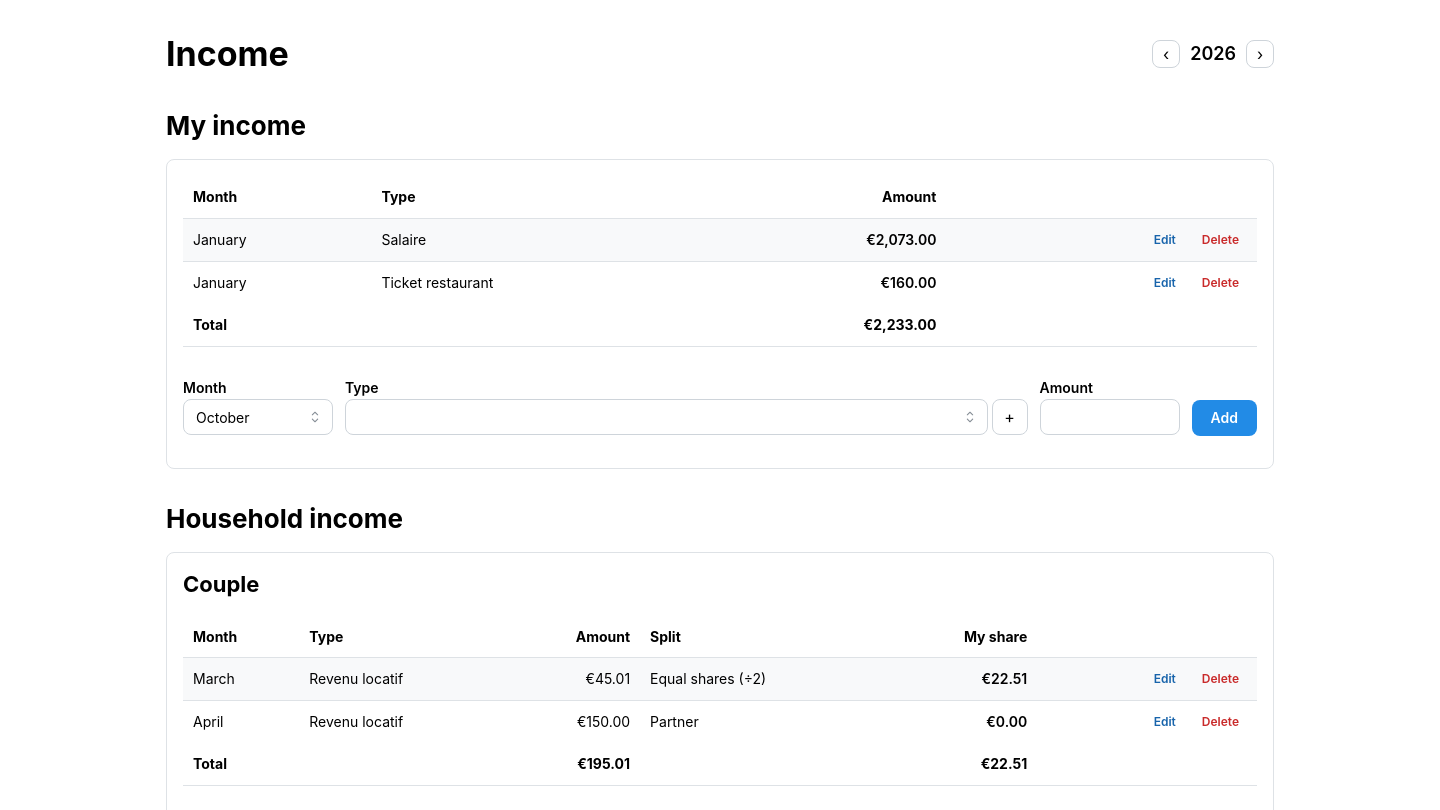
IncomesPage › shows a duplicate income on the type field
Click the dropdown labelled "Month".
click(258, 418)  # box [183,400,333,436]
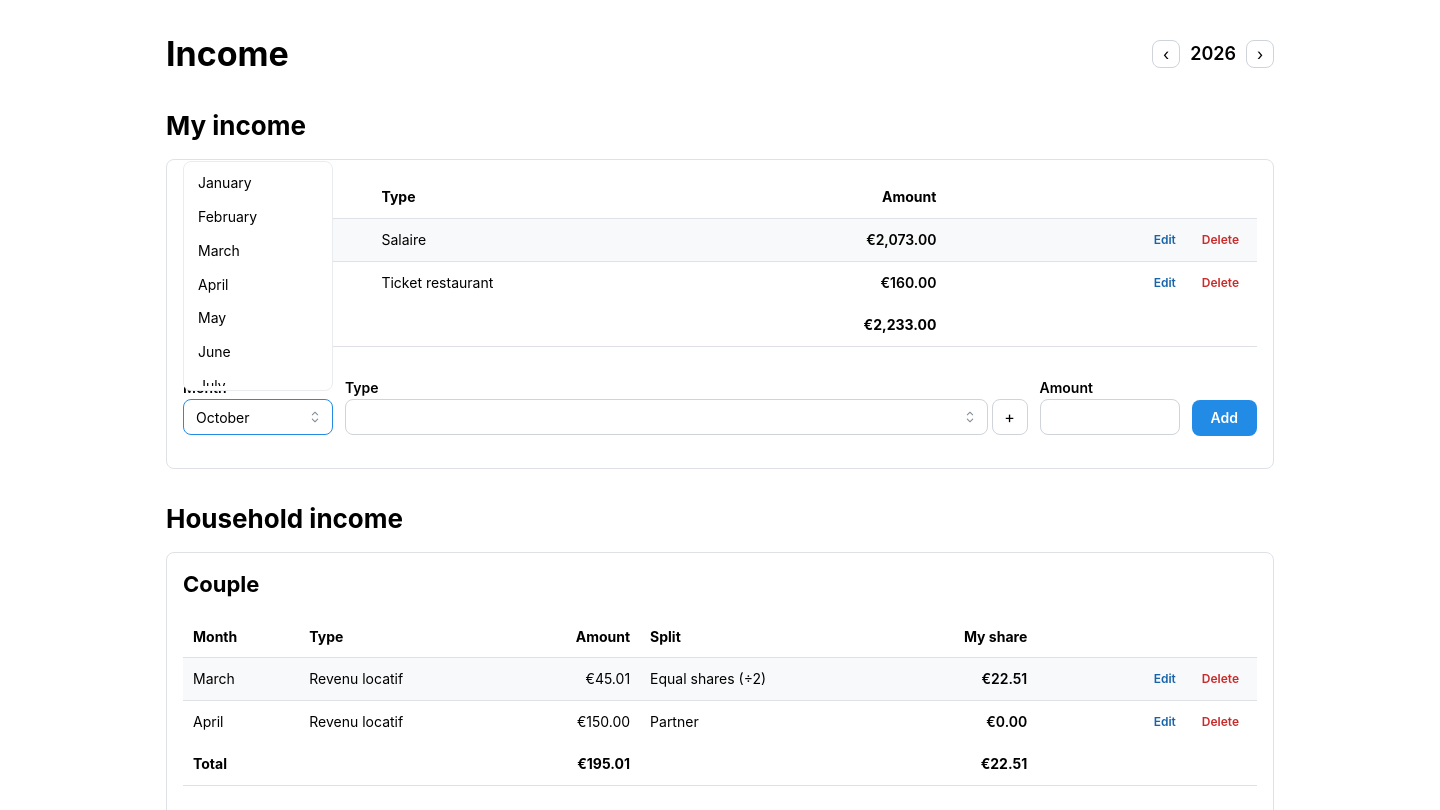
Click the option "January".
click(225, 183)  # box [198,174,252,192]
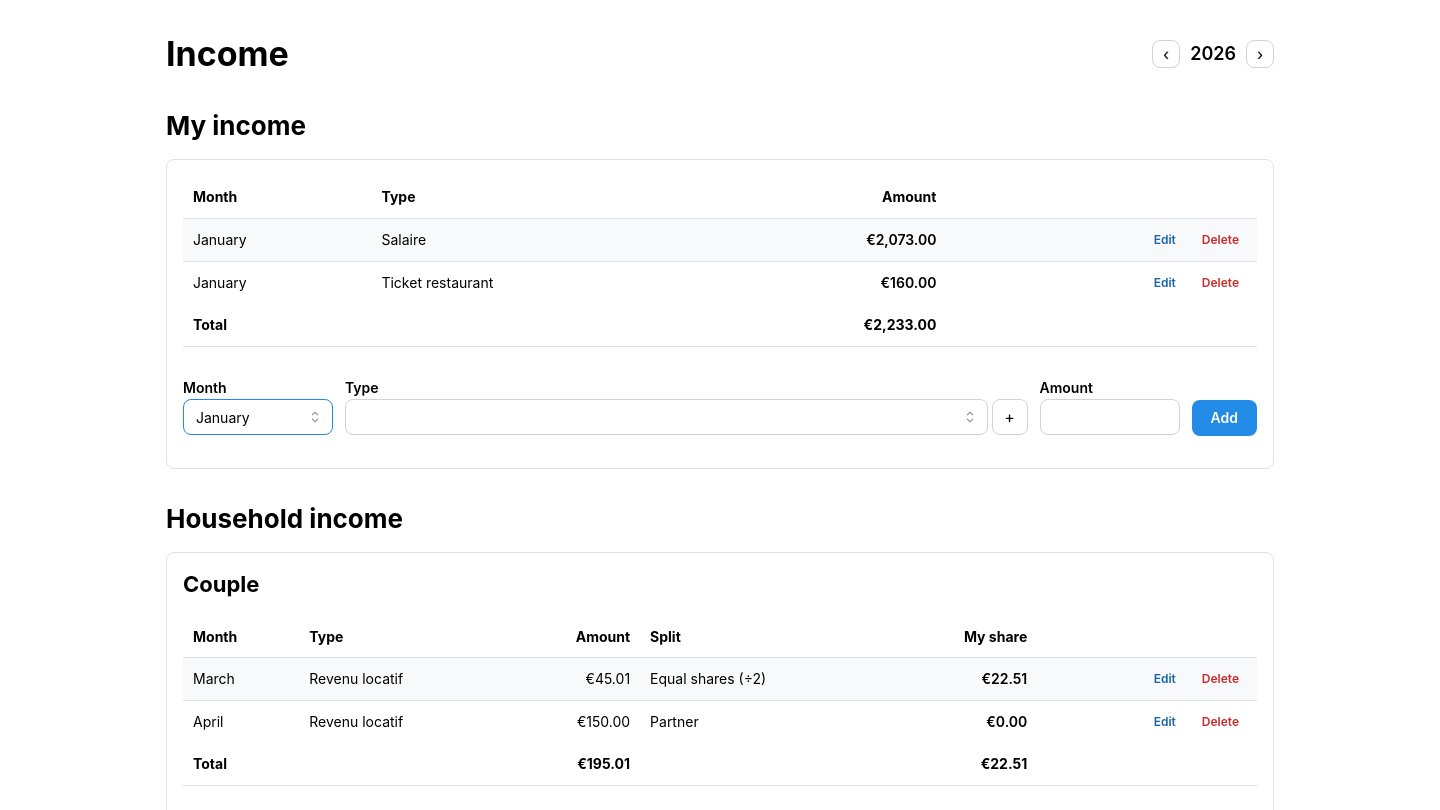
Click the dropdown labelled "Type".
click(666, 418)  # box [345,400,988,436]
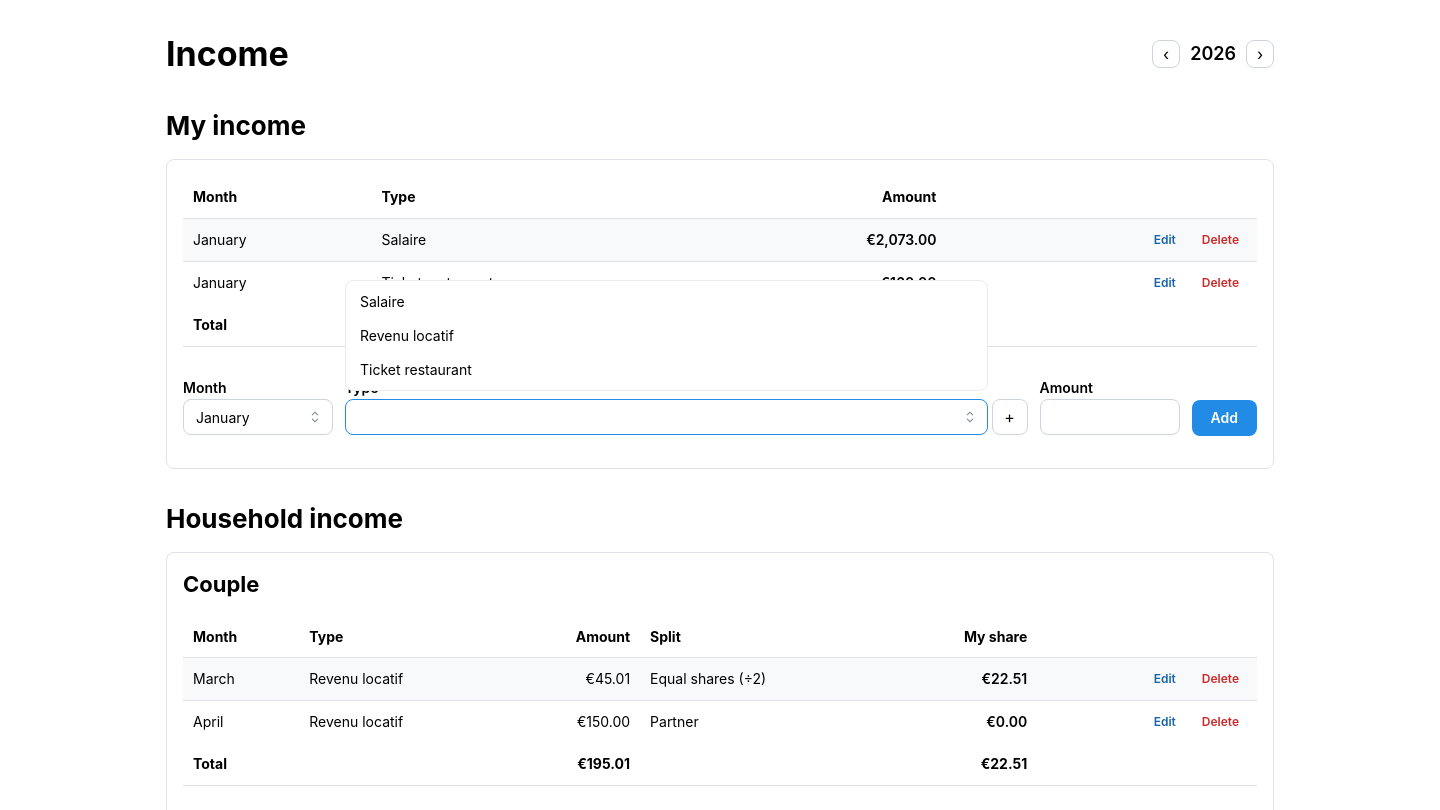
Click the option "Salaire".
click(382, 302)  # box [360,293,405,310]
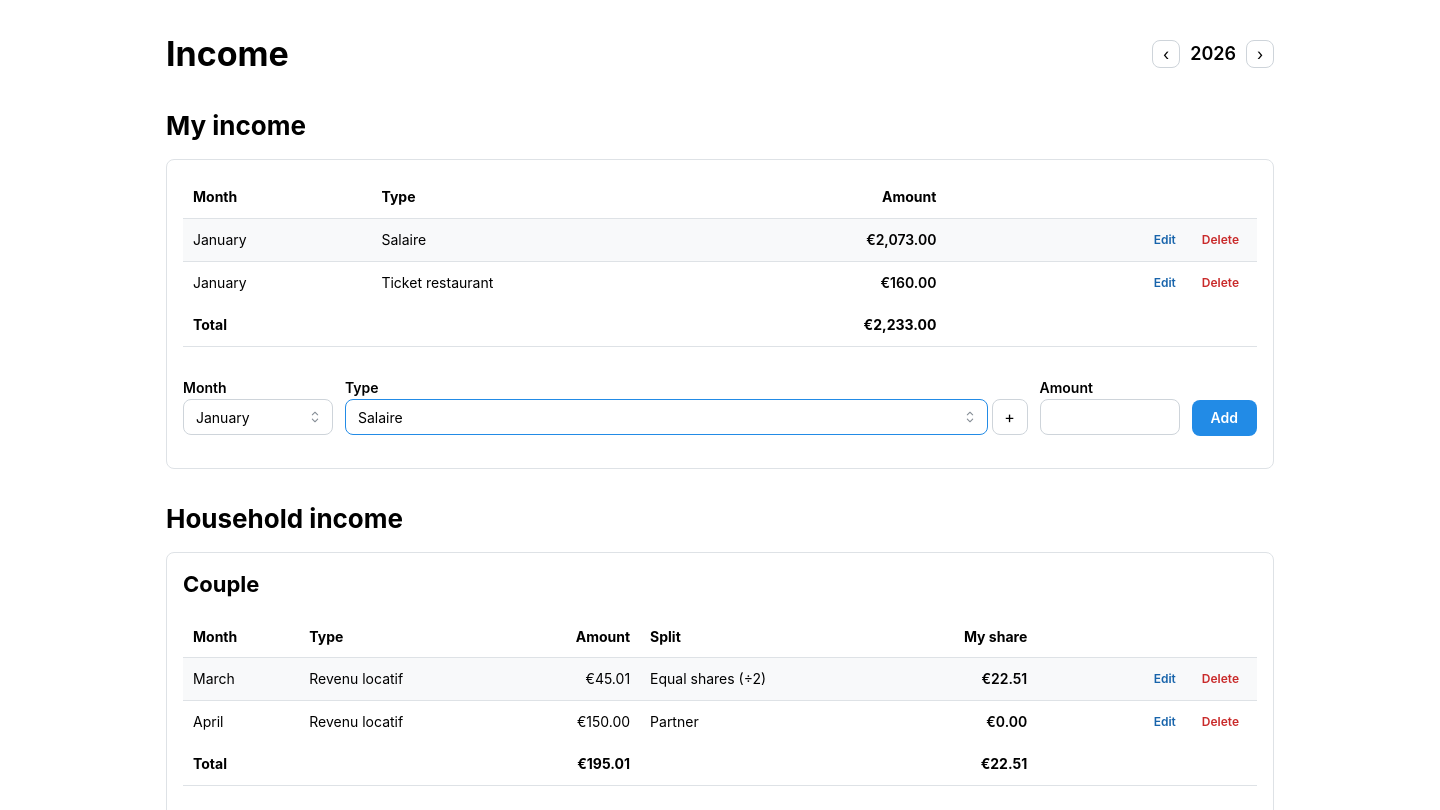
Type "100" into the field labelled "Amount".
click(1110, 418); type("100")  # box [1040,400,1180,436]
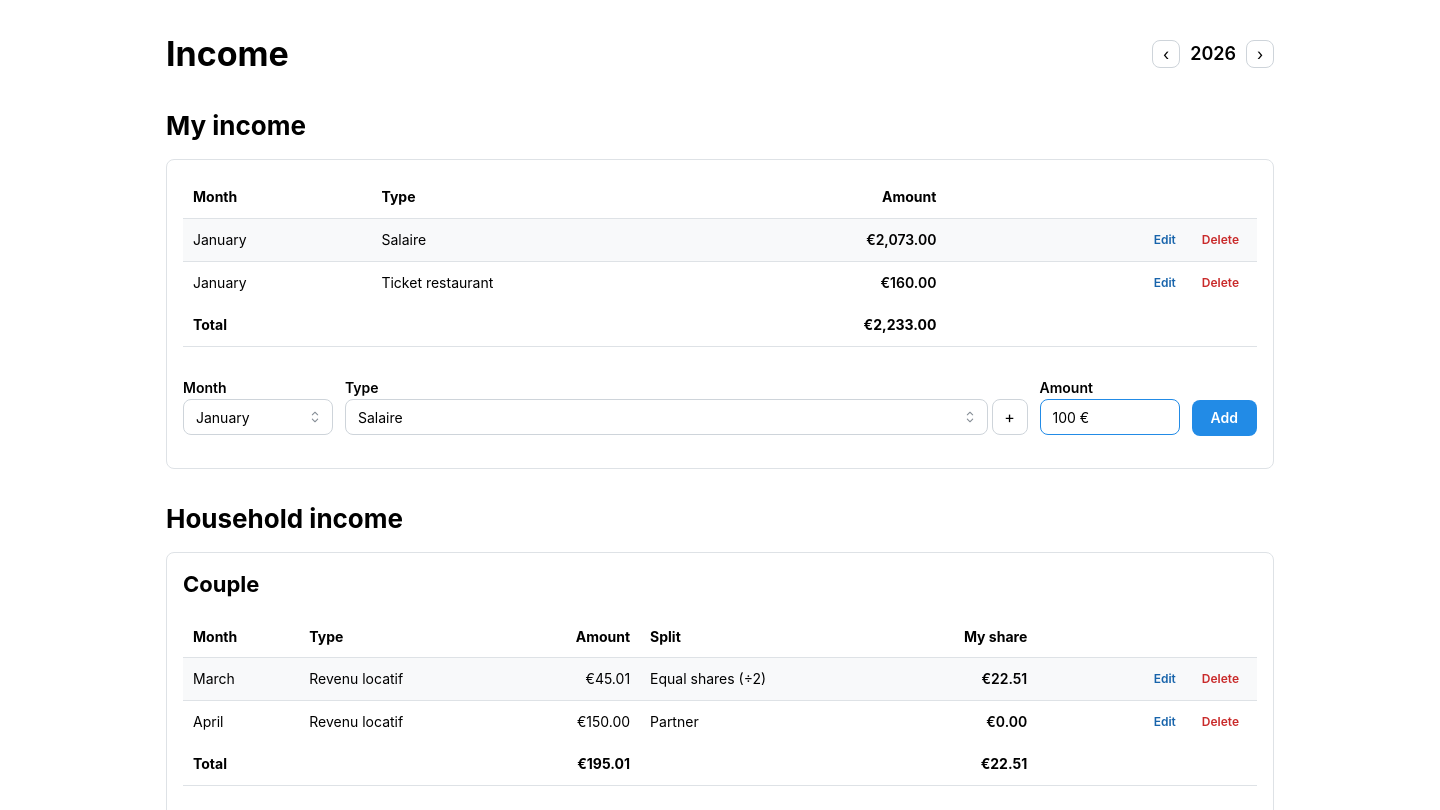
Click the button "Add".
click(1224, 418)  # box [1192,400,1257,436]
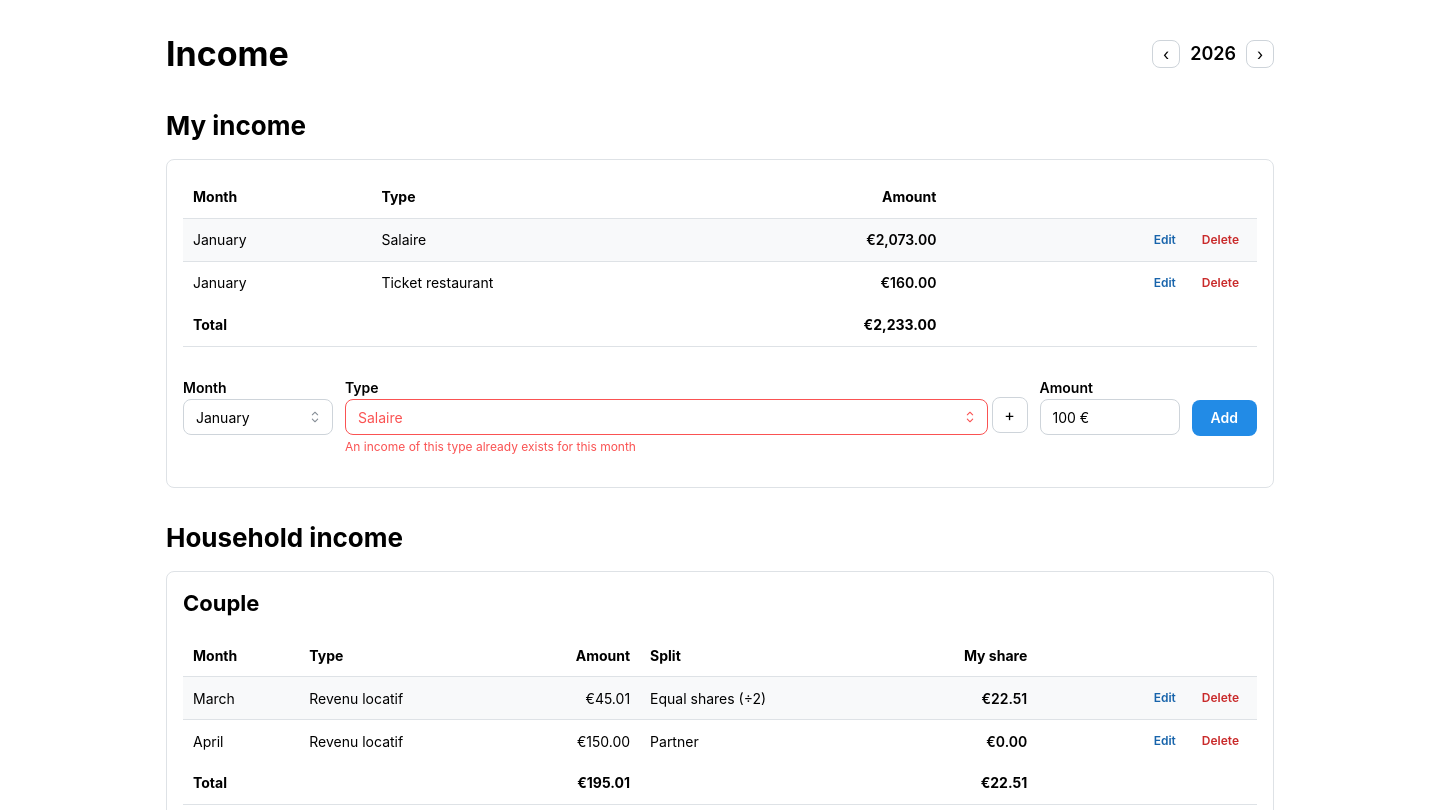
Check: the text "An income of this type already exists for this month" is shown, box [345,440,636,454]
